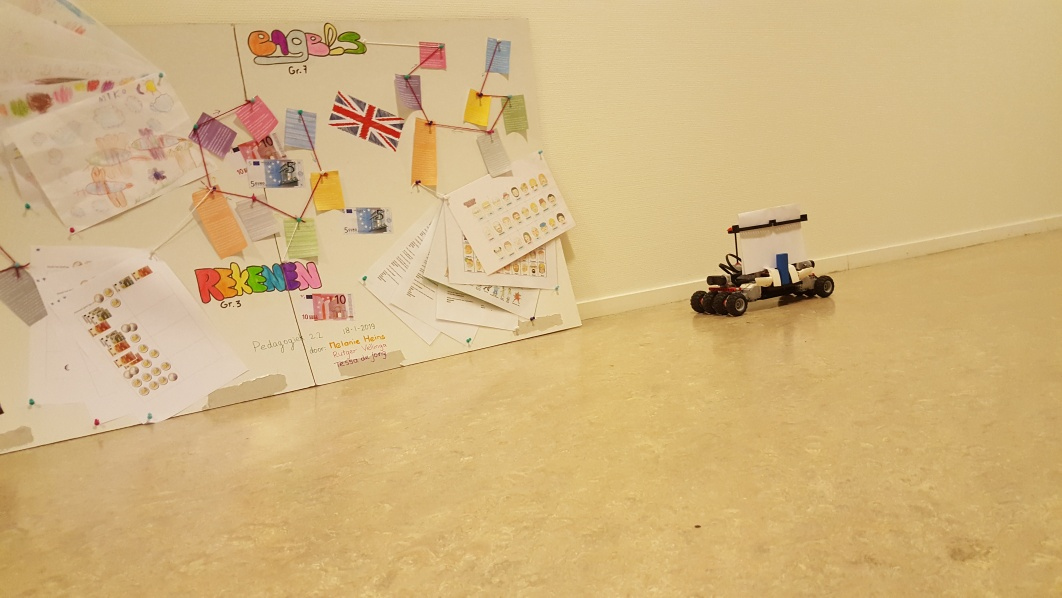beam: (772, 251, 794, 289)
